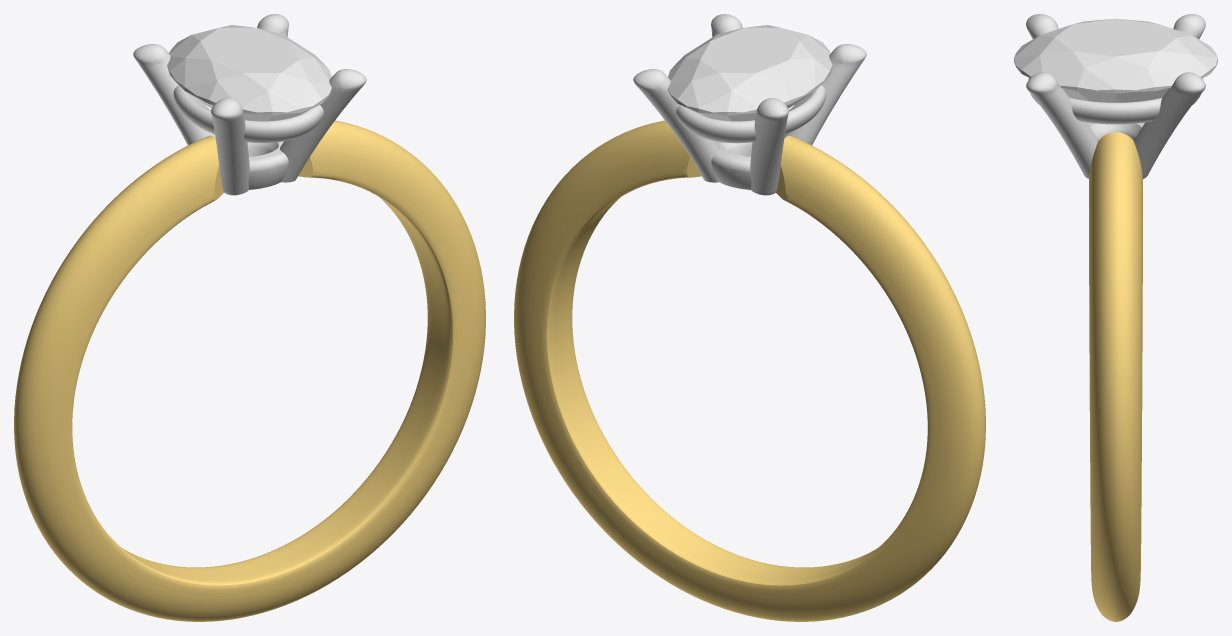
The model's file is Matt_Nelson_straight_blender.glb.
3 views of the same model, side by side, from view 1: azimuth 30°, elevation 25°; view 2: azimuth 150°, elevation 25°; view 3: azimuth 270°, elevation 25° (orthographic).
Visible parts, largest first — view 1: Nelson YG for 3d model, Nelson PT for 3d model, Nelson dia for 3d model; view 2: Nelson YG for 3d model, Nelson PT for 3d model, Nelson dia for 3d model; view 3: Nelson YG for 3d model, Nelson dia for 3d model, Nelson PT for 3d model.
Boxes of the visible parts, left/top/right/bottom form: Nelson YG for 3d model: left=14, top=120, right=485, bottom=621; Nelson PT for 3d model: left=133, top=14, right=366, bottom=195; Nelson dia for 3d model: left=167, top=25, right=331, bottom=121; Nelson YG for 3d model: left=514, top=120, right=985, bottom=621; Nelson PT for 3d model: left=633, top=14, right=866, bottom=195; Nelson dia for 3d model: left=668, top=25, right=832, bottom=121; Nelson YG for 3d model: left=1089, top=132, right=1142, bottom=621; Nelson dia for 3d model: left=1014, top=18, right=1217, bottom=102; Nelson PT for 3d model: left=1026, top=14, right=1205, bottom=178.
Size of the model in its own units: 19.69 by 22.69 by 7.5.
